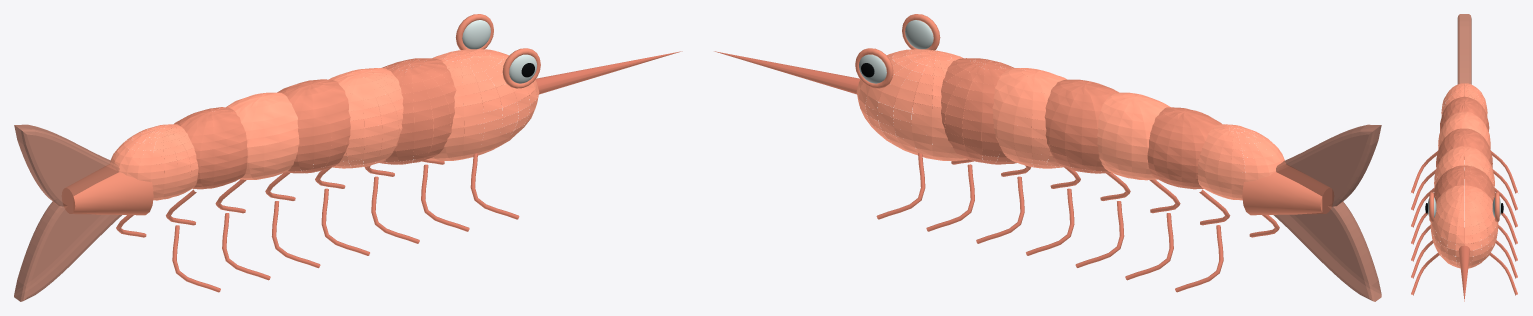
The model's file is saw-shrimp.glb.
3 renders of one model, left to right at view 1: azimuth 30°, elevation 25°; view 2: azimuth 150°, elevation 25°; view 3: azimuth 270°, elevation 25°, orthographic. The views are drawn at different scales.
Parts seen in each view (by area): view 1: shell_segment (×7), tail_fin, tail_peduncle, leg (×7), saw_rostrum, eye (×2), eye_socket (×2); view 2: shell_segment (×7), tail_fin, tail_peduncle, leg (×7), saw_rostrum, eye (×2), eye_socket (×2); view 3: shell_segment (×7), leg (×14), tail_fin, saw_rostrum, eye_socket (×2).
Part boxes in pixels (x1=…): shell_segment (×7): x1=110, y1=49, x2=539, y2=200; tail_fin: x1=14, y1=124, x2=121, y2=301; tail_peduncle: x1=63, y1=164, x2=153, y2=215; leg (×7): x1=172, y1=153, x2=519, y2=292; saw_rostrum: x1=491, y1=51, x2=682, y2=104; eye (×2): x1=462, y1=20, x2=536, y2=83; eye_socket (×2): x1=455, y1=14, x2=540, y2=88; shell_segment (×7): x1=856, y1=49, x2=1285, y2=200; tail_fin: x1=1273, y1=124, x2=1381, y2=301; tail_peduncle: x1=1242, y1=165, x2=1332, y2=215; leg (×7): x1=876, y1=153, x2=1223, y2=292; saw_rostrum: x1=714, y1=51, x2=902, y2=104; eye (×2): x1=859, y1=20, x2=933, y2=83; eye_socket (×2): x1=855, y1=14, x2=940, y2=88; shell_segment (×7): x1=1430, y1=83, x2=1498, y2=268; leg (×14): x1=1411, y1=150, x2=1517, y2=295; tail_fin: x1=1457, y1=14, x2=1471, y2=91; saw_rostrum: x1=1458, y1=228, x2=1470, y2=301; eye_socket (×2): x1=1429, y1=192, x2=1499, y2=222.
Bounding box in the file's own units: 3.89 × 0.9907 × 0.7807.
